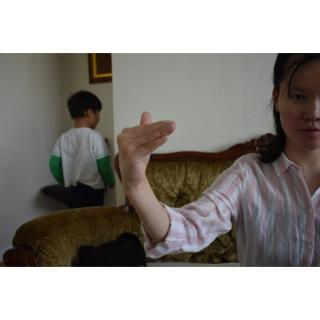KHAA: (114, 108, 185, 190)
